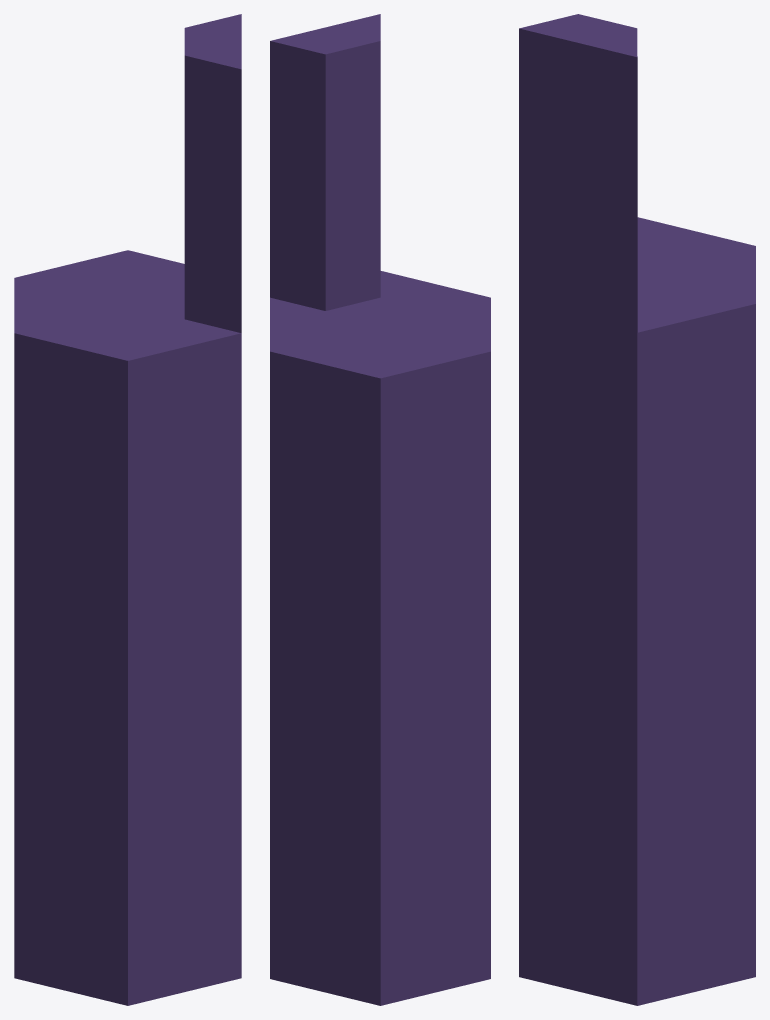
Rendered from Hex_Tall_9.fbx.
3 views of the same model, side by side, from view 1: azimuth 30°, elevation 25°; view 2: azimuth 150°, elevation 25°; view 3: azimuth 270°, elevation 25° (orthographic). The views are drawn at different scales.
Parts seen in each view (by area): view 1: TileHex9; view 2: TileHex9; view 3: TileHex9.
Boxes of the visible parts, x1=… form: TileHex9: x1=14, y1=14, x2=241, y2=1005; TileHex9: x1=270, y1=14, x2=490, y2=1005; TileHex9: x1=519, y1=14, x2=755, y2=1005.
Bounding box in the file's own units: 118 × 450 × 102.
